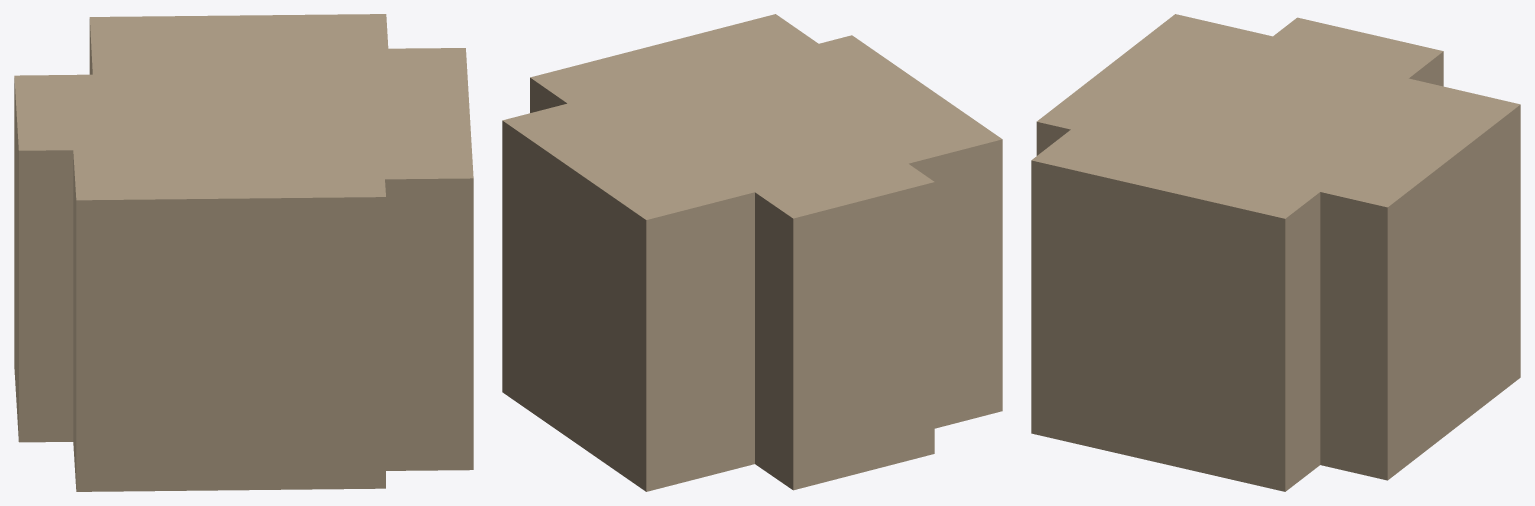
Rendered from bld_101246038.dae.
3 views of the same model, side by side, from view 1: azimuth 30°, elevation 25°; view 2: azimuth 150°, elevation 25°; view 3: azimuth 270°, elevation 25° (orthographic). The views are drawn at different scales.
Parts seen in each view (by area): view 1: bld_101246038; view 2: bld_101246038; view 3: bld_101246038.
Boxes of the visible parts, left/top/right/bottom form: bld_101246038: left=14, top=14, right=473, bottom=491; bld_101246038: left=502, top=14, right=1002, bottom=491; bld_101246038: left=1031, top=14, right=1520, bottom=491.
Size of the model in its own units: 11.26 by 11.37 by 7.
